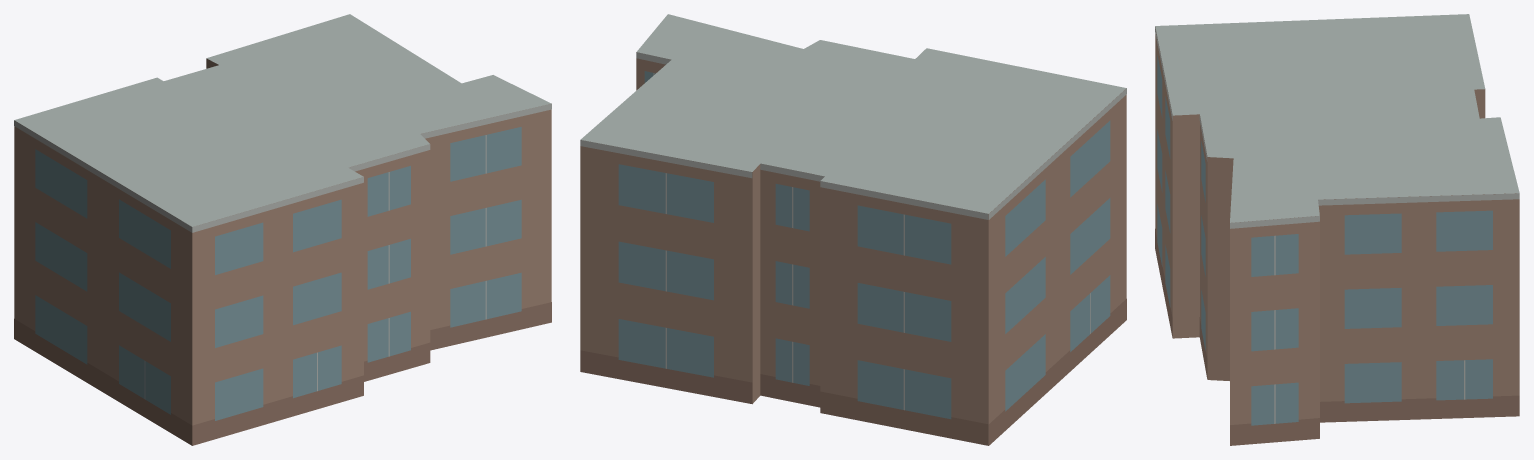
The model's file is survey-upis-32816807.glb.
3 views of the same model, side by side, from view 1: azimuth 30°, elevation 25°; view 2: azimuth 150°, elevation 25°; view 3: azimuth 270°, elevation 25° (orthographic). The views are drawn at different scales.
Visible parts, largest first — view 1: survey-upis-32816807.tmp; view 2: survey-upis-32816807.tmp; view 3: survey-upis-32816807.tmp.
Boxes of the visible parts, x1,y1,x2,y2 form: survey-upis-32816807.tmp: (14,14,551,445); survey-upis-32816807.tmp: (580,14,1126,445); survey-upis-32816807.tmp: (1155,14,1519,445).
Size of the model in its own units: 18.29 by 9.1 by 13.49.
